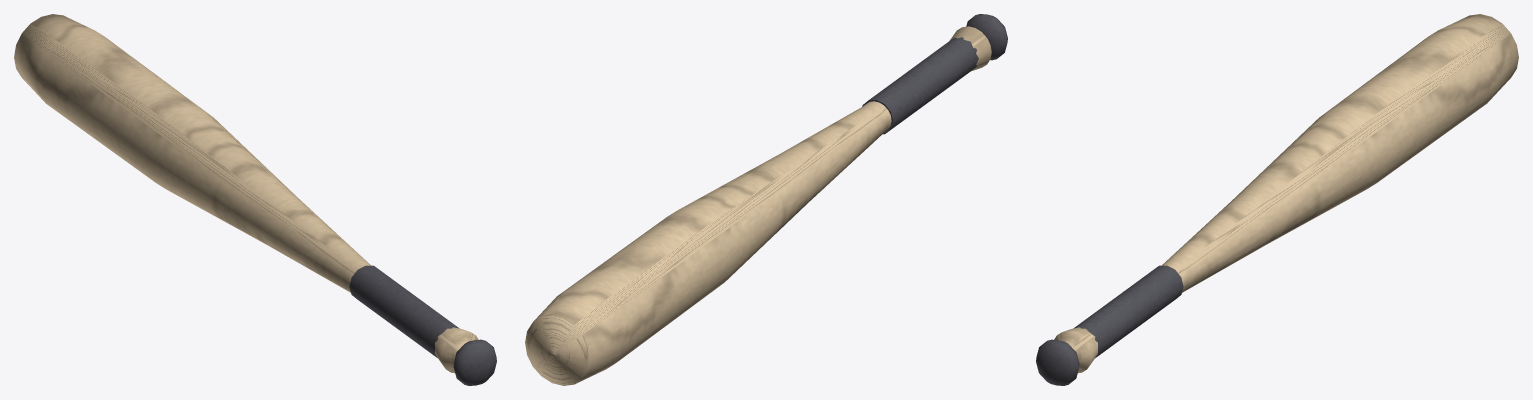
Rendered from bat.glb.
3 views of the same model, side by side, from view 1: azimuth 30°, elevation 25°; view 2: azimuth 150°, elevation 25°; view 3: azimuth 330°, elevation 25° (orthographic).
Visible parts, largest first — view 1: bat_body; view 2: bat_body; view 3: bat_body.
Part boxes in pixels (x1=…): bat_body: x1=14, y1=14, x2=496, y2=385; bat_body: x1=525, y1=14, x2=1007, y2=385; bat_body: x1=1036, y1=14, x2=1518, y2=385.
Size of the model in its own units: 0.094 by 0.0926 by 0.9248.
2 materials, 2 textured.
